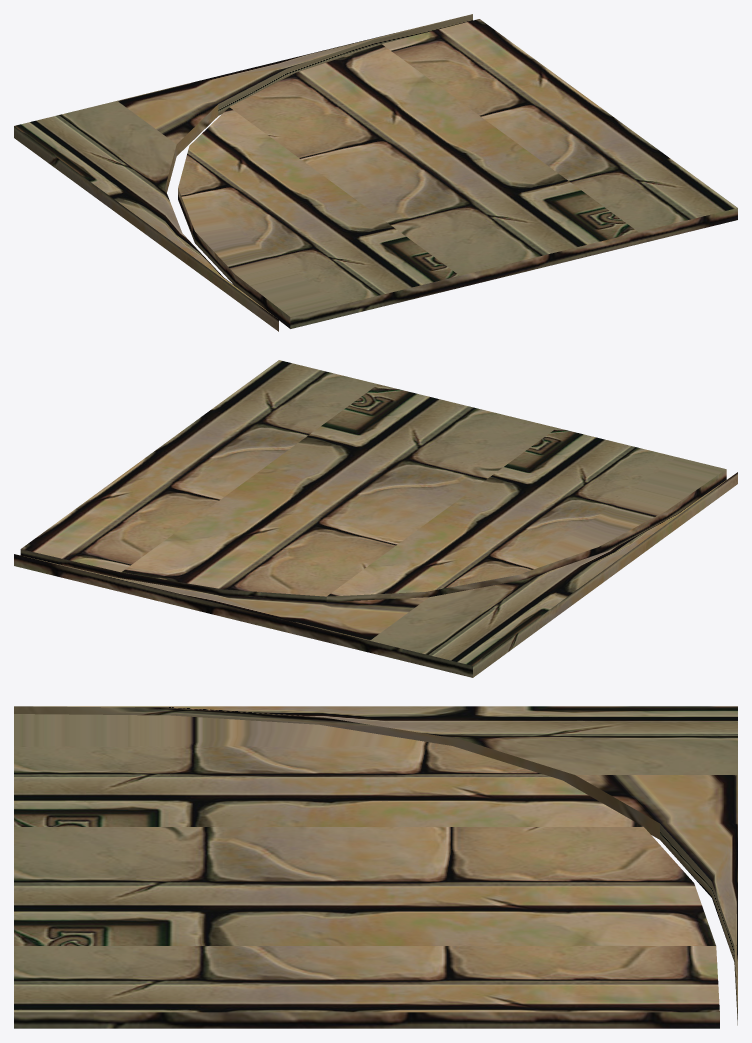
The model's file is structure_floorcurved.fbx.
3 renders of one model, top to bottom at view 1: azimuth 30°, elevation 25°; view 2: azimuth 150°, elevation 25°; view 3: azimuth 270°, elevation 25°, orthographic. The views are drawn at different scales.
Parts seen in each view (by area): view 1: Floors:floorcurved_floor1, Floors:floorcurved_floor2; view 2: Floors:floorcurved_floor1, Floors:floorcurved_floor2; view 3: Floors:floorcurved_floor1, Floors:floorcurved_floor2.
Part boxes in pixels (x1,y1,x2,y2): Floors:floorcurved_floor1: (178, 19, 737, 328); Floors:floorcurved_floor2: (14, 14, 472, 331); Floors:floorcurved_floor1: (20, 360, 726, 601); Floors:floorcurved_floor2: (14, 472, 737, 677); Floors:floorcurved_floor1: (14, 714, 719, 1028); Floors:floorcurved_floor2: (14, 706, 737, 1025).
Bounding box in the file's own units: 400 × 10 × 400.
